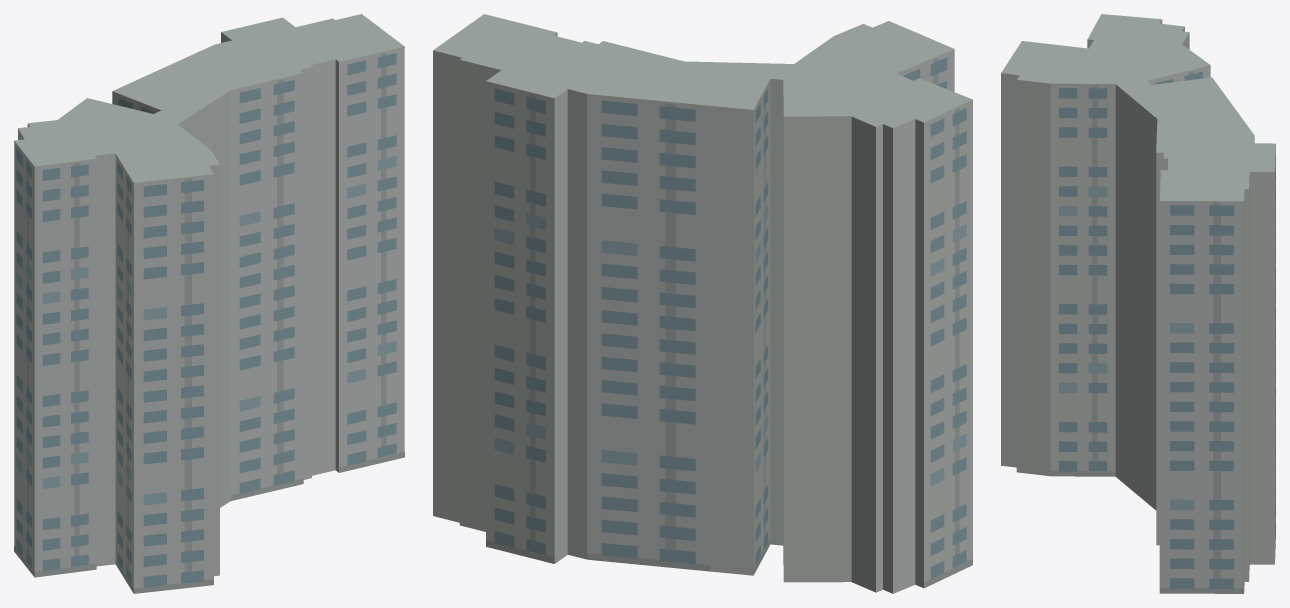
Rendered from residential-d1e4a37e-1816-44e5-91e1-0558405b7de1.glb.
3 renders of one model, left to right at view 1: azimuth 30°, elevation 25°; view 2: azimuth 150°, elevation 25°; view 3: azimuth 270°, elevation 25°, orthographic. The views are drawn at different scales.
Parts seen in each view (by area): view 1: residential-d1e4a37e-1816-44e5-91e1-0558405b7de1.tmp; view 2: residential-d1e4a37e-1816-44e5-91e1-0558405b7de1.tmp; view 3: residential-d1e4a37e-1816-44e5-91e1-0558405b7de1.tmp.
Part boxes in pixels (bbox=[...]): residential-d1e4a37e-1816-44e5-91e1-0558405b7de1.tmp: bbox=[14, 14, 404, 593]; residential-d1e4a37e-1816-44e5-91e1-0558405b7de1.tmp: bbox=[433, 14, 972, 593]; residential-d1e4a37e-1816-44e5-91e1-0558405b7de1.tmp: bbox=[1001, 14, 1275, 593].
Bounding box in the file's own units: 58.32 × 57 × 36.17.
